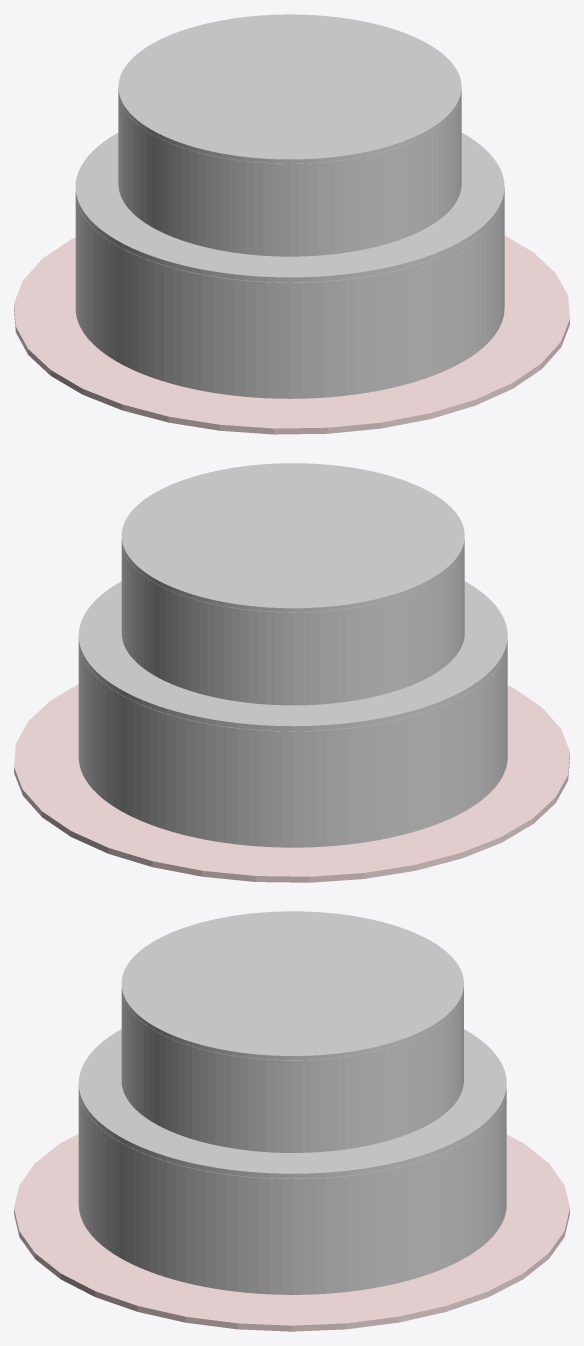
File: CakeBlayer2_smooth.glb
3 renders of one model, top to bottom at view 1: azimuth 30°, elevation 25°; view 2: azimuth 150°, elevation 25°; view 3: azimuth 270°, elevation 25°, orthographic.
Visible parts, largest first — view 1: Cylinder.004, Cylinder.007, Cylinder.006, plate 4.001, Cylinder.005; view 2: Cylinder.004, Cylinder.007, Cylinder.006, plate 4.001, Cylinder.005; view 3: Cylinder.004, Cylinder.007, plate 4.001, Cylinder.006, Cylinder.005.
Part boxes in pixels (x1,y1,x2,y2): Cylinder.004: [75, 193, 504, 398]; Cylinder.007: [118, 14, 461, 163]; Cylinder.006: [118, 92, 461, 256]; plate 4.001: [14, 235, 569, 434]; Cylinder.005: [75, 133, 504, 282]; Cylinder.004: [78, 643, 507, 847]; Cylinder.007: [121, 463, 464, 612]; Cylinder.006: [121, 544, 464, 705]; plate 4.001: [14, 684, 569, 882]; Cylinder.005: [78, 581, 507, 731]; Cylinder.004: [78, 1090, 506, 1294]; Cylinder.007: [121, 911, 463, 1059]; plate 4.001: [14, 1134, 569, 1331]; Cylinder.006: [121, 990, 463, 1152]; Cylinder.005: [78, 1029, 506, 1178].
Bounding box in the file's own units: 1.97 × 0.9 × 1.97.
